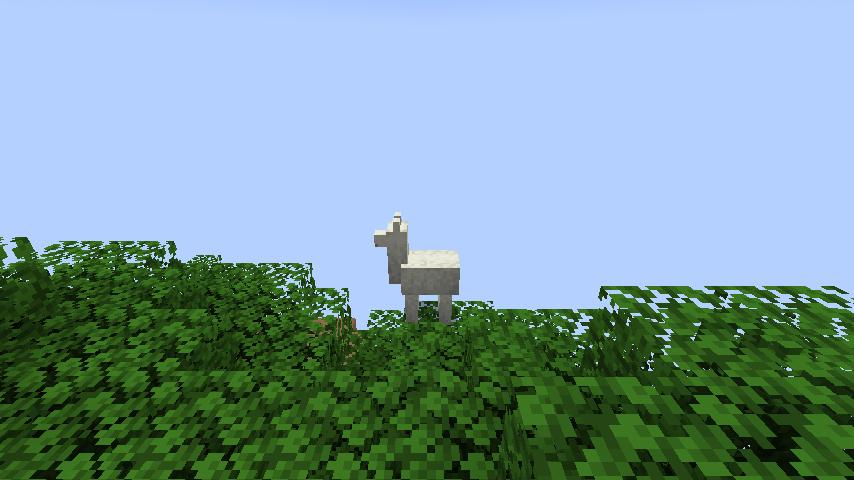llama: (370, 210, 464, 325)
